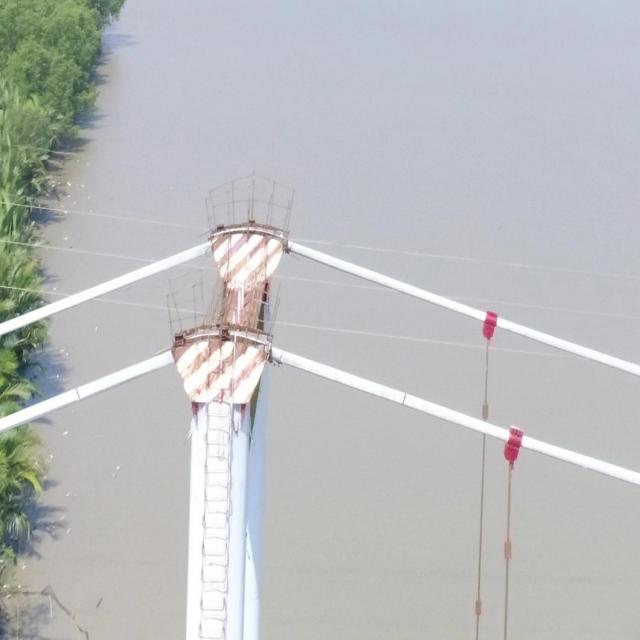crack: (76, 387, 81, 403), (402, 392, 407, 405)
